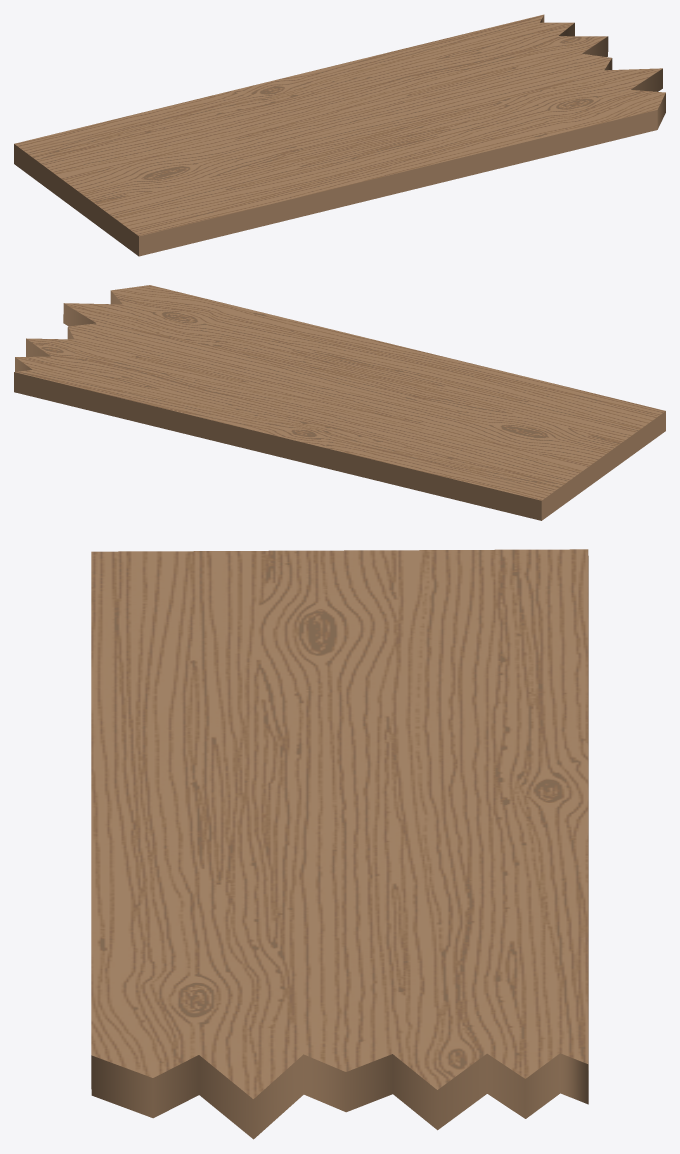
Rendered from board.fbx.
3 views of the same model, one above another, from view 1: azimuth 30°, elevation 25°; view 2: azimuth 150°, elevation 25°; view 3: azimuth 270°, elevation 25° (orthographic). The views are drawn at different scales.
Visible parts, largest first — view 1: pasted__polySurface3; view 2: pasted__polySurface3; view 3: pasted__polySurface3.
Part boxes in pixels (x1,y1,x2,y2): pasted__polySurface3: (14,14,665,256); pasted__polySurface3: (14,285,665,520); pasted__polySurface3: (91,549,588,1139).
Bounding box in the file's own units: 8.83 × 0.3184 × 3.38.
1 material, 1 textured.
